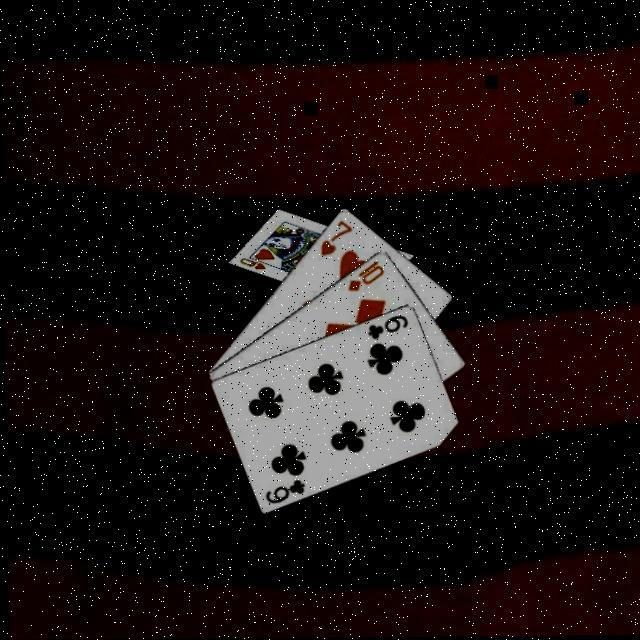10D: (343, 257, 385, 293)
6C: (362, 311, 409, 341), (260, 475, 305, 505)
7H: (315, 216, 353, 258)
